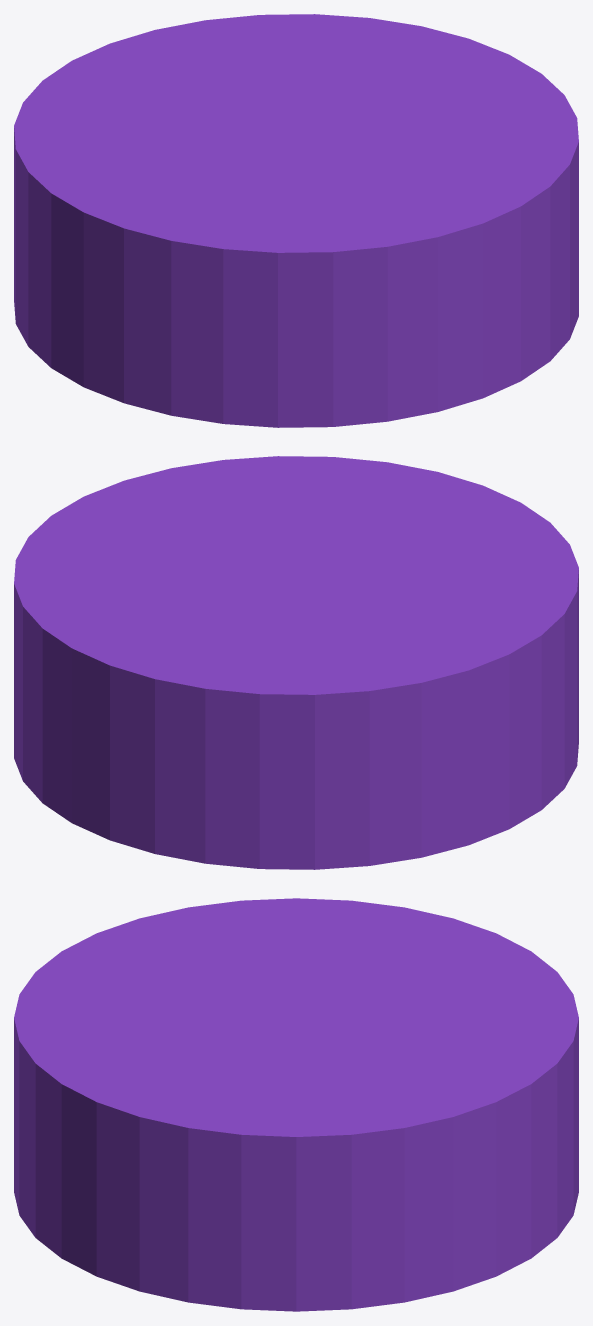
3 views of the same model, one above another, from view 1: azimuth 30°, elevation 25°; view 2: azimuth 150°, elevation 25°; view 3: azimuth 270°, elevation 25° (orthographic).
Visible parts, largest first — view 1: link_6; view 2: link_6; view 3: link_6.
Part boxes in pixels (bbox=[...]): link_6: bbox=[14, 14, 578, 427]; link_6: bbox=[14, 456, 578, 869]; link_6: bbox=[14, 898, 578, 1311].
Bounding box in the file's own units: 2 × 2 × 0.6818.
